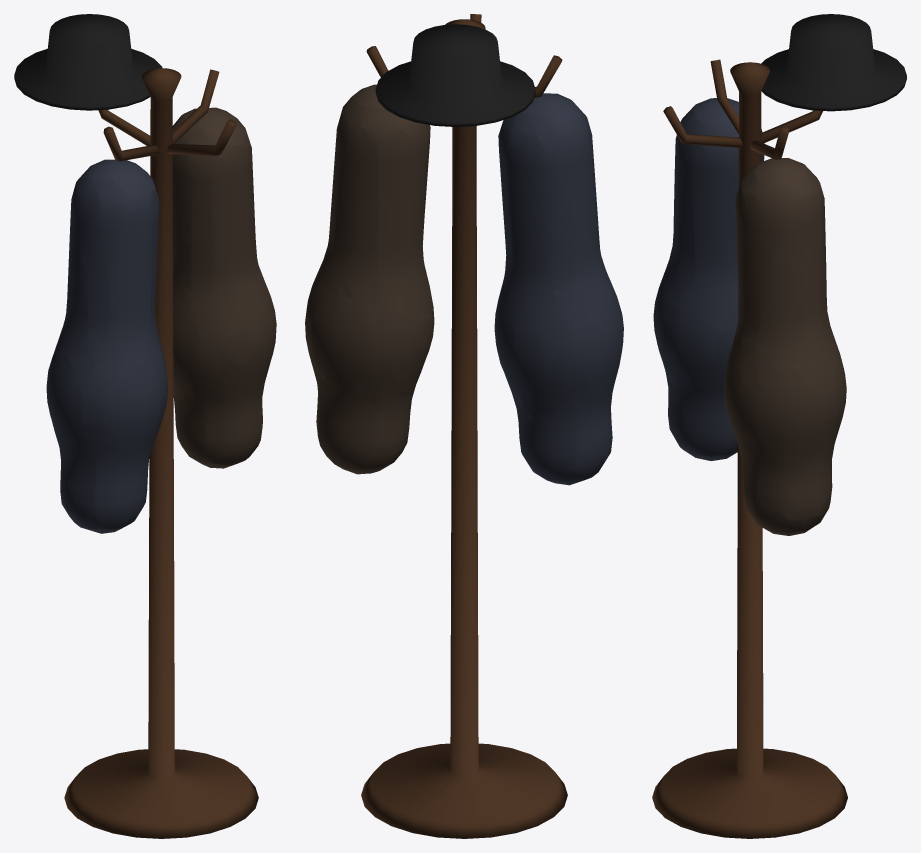
Rendered from coat_rack.glb.
The picture shows the model from 3 angles, left to right: view 1: azimuth 30°, elevation 25°; view 2: azimuth 150°, elevation 25°; view 3: azimuth 270°, elevation 25°; orthographic projection. The views are drawn at different scales.
Parts seen in each view (by area): view 1: coat_rack; view 2: coat_rack; view 3: coat_rack.
Boxes of the visible parts, x1=… form: coat_rack: x1=14, y1=14, x2=276, y2=838; coat_rack: x1=305, y1=14, x2=623, y2=838; coat_rack: x1=652, y1=14, x2=906, y2=838.
Size of the model in its own units: 0.6496 by 1.87 by 0.5719.
